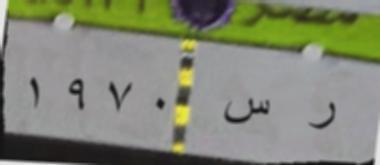0: (151, 87, 170, 118)
1: (20, 68, 46, 118)
7: (104, 74, 134, 117)
9: (64, 73, 91, 122)
raa: (305, 96, 340, 141)
seen: (221, 88, 274, 138)
